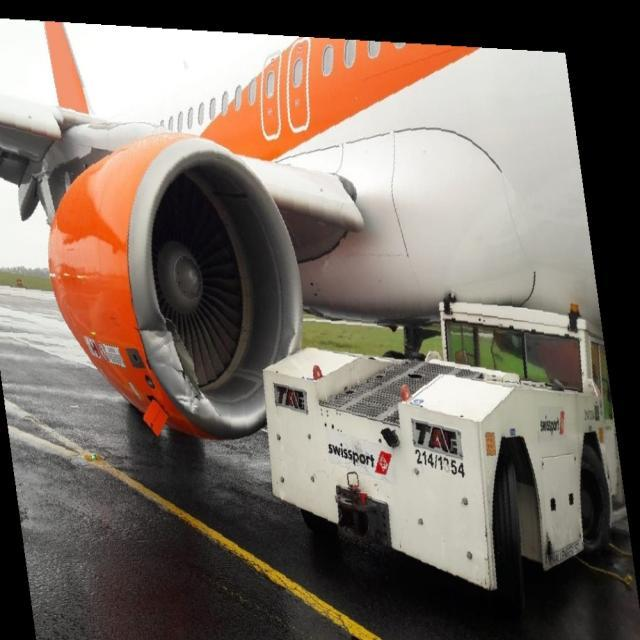crack: (167, 321, 203, 404)
dent: (146, 321, 179, 379), (279, 322, 307, 357), (172, 385, 202, 413)
